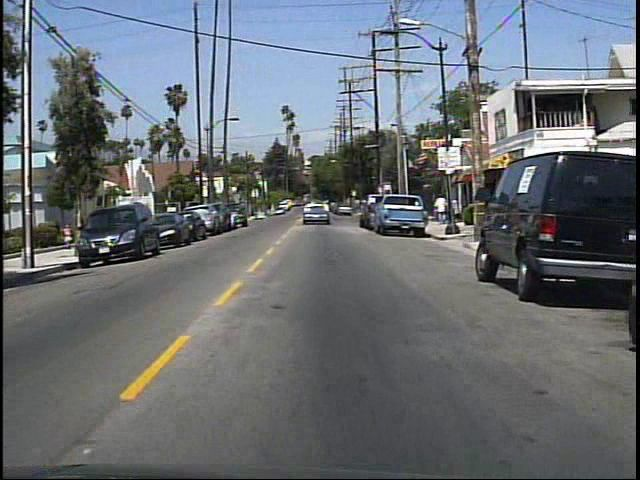person: (433, 192, 450, 228), (63, 222, 79, 252)
